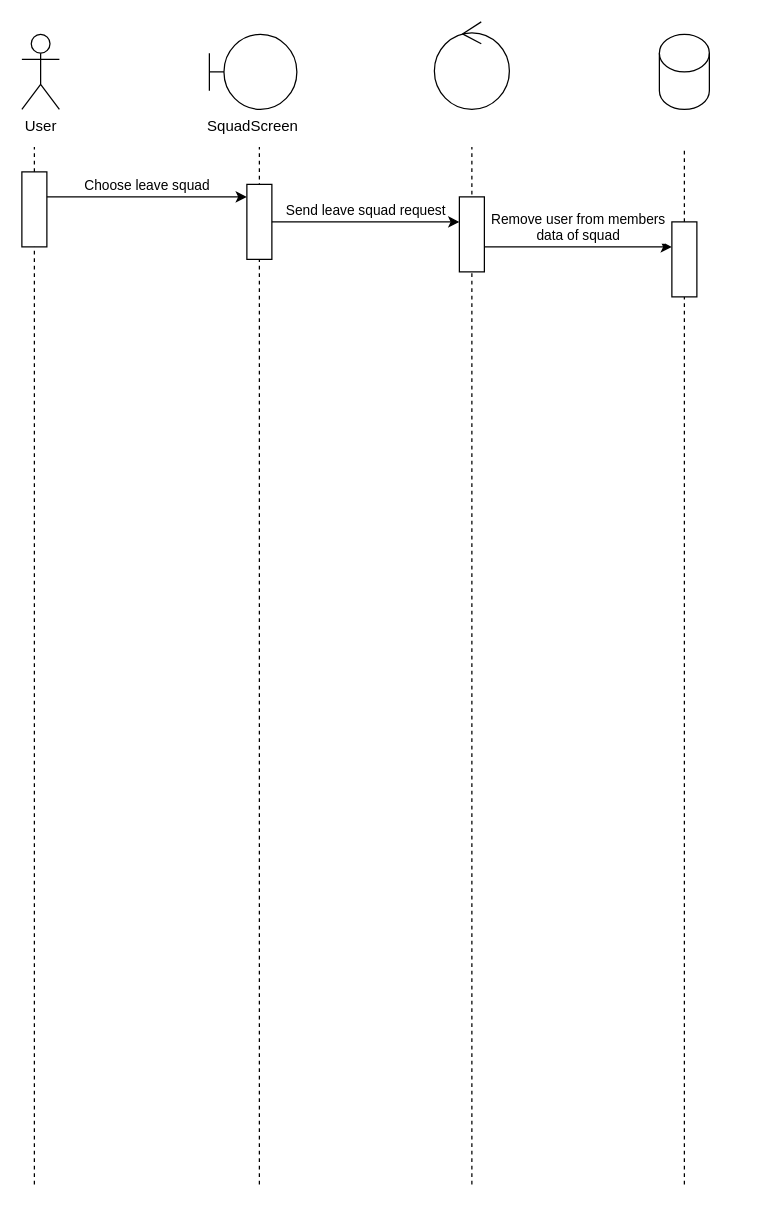
The diagram is 761 pixels wide and 1208 high, and some of its shapes have lost their labels. Here are the shapes that lost their labels. From the top down, the centre of each, then its label:
At pixel 471 65: "SquadController".
At pixel 683 71: "Squad Database".
